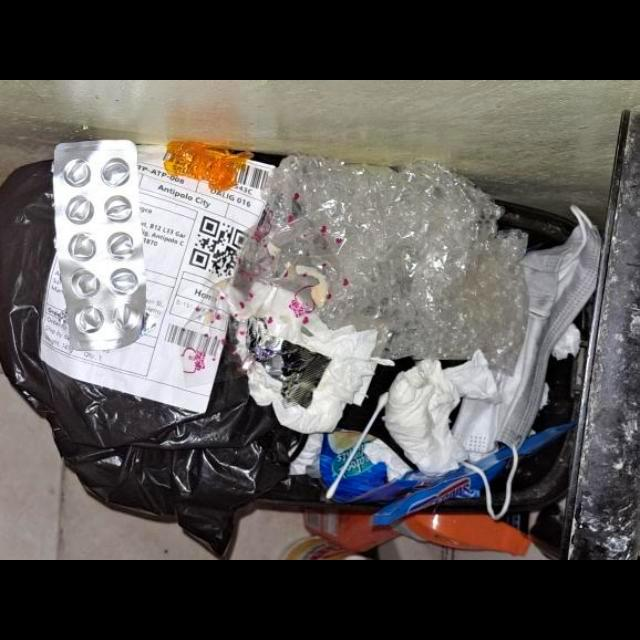food_wrapper: (162, 139, 255, 193)
paper: (384, 350, 498, 476)
plastic_bag: (256, 155, 529, 366)
